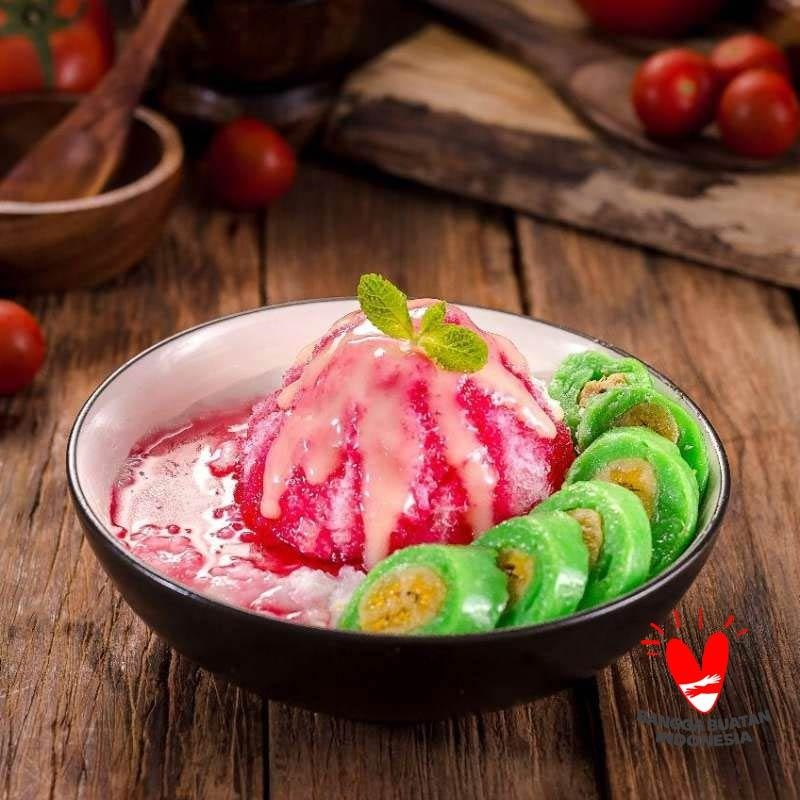es_pisang_ijo: (111, 301, 708, 639)
